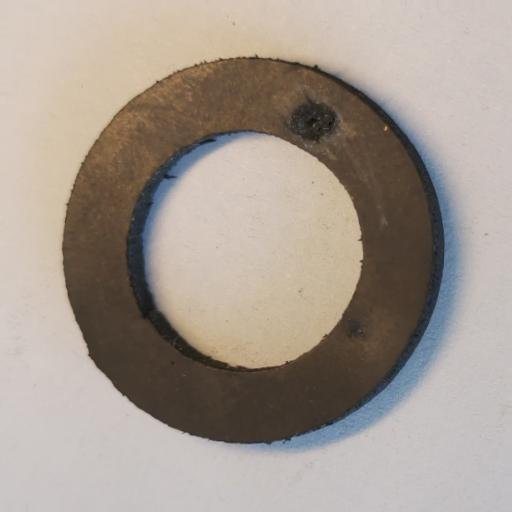defect: (286, 97, 339, 143), (346, 318, 366, 338)
